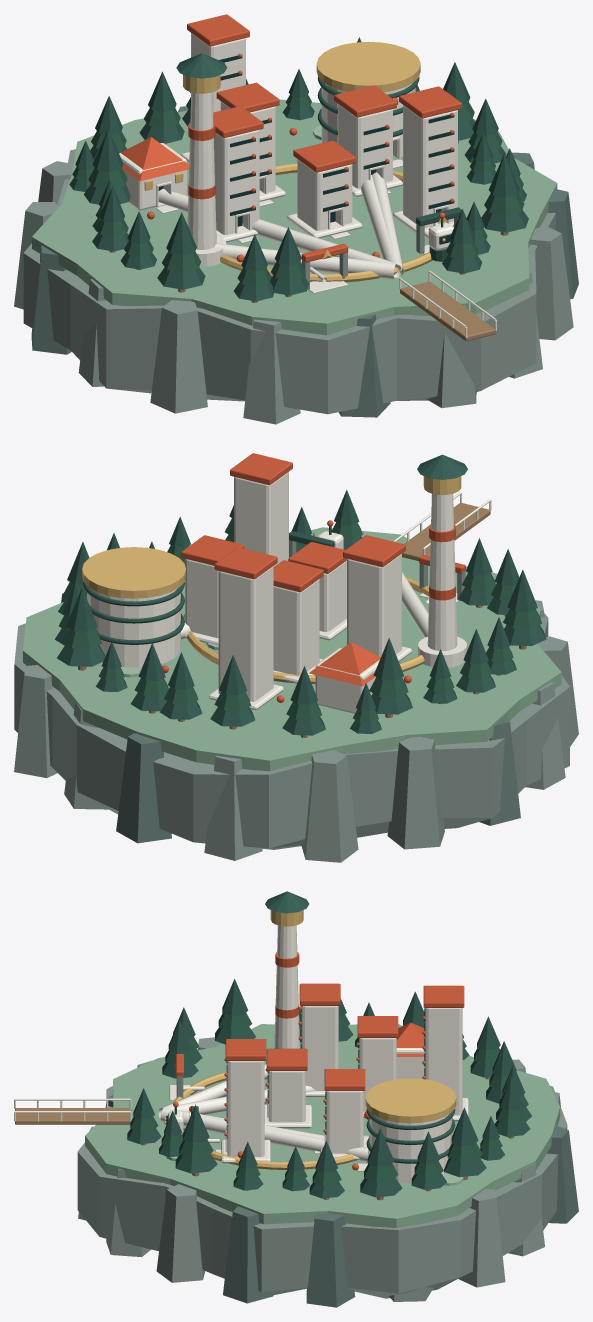
Rendered from chapter-01.glb.
3 views of the same model, one above another, from view 1: azimuth 30°, elevation 25°; view 2: azimuth 150°, elevation 25°; view 3: azimuth 270°, elevation 25° (orthographic). The views are drawn at different scales.
Parts seen in each view (by area): view 1: terrain, rock_base, server_4, cliff_facet_10, vault_cap_0, server_3, beacon, cliff_facet_15, cliff_facet_11, server_1, server_0, landmark_dock (+47 smaller); view 2: terrain, rock_base, server_5, cliff_facet_07, cliff_facet_06, server_3, vault_cap_0, landmark_database_0, server_4, server_2, cliff_facet_04, beacon (+45 smaller); view 3: terrain, rock_base, cliff_facet_15, server_4, vault_cap_0, cliff_facet_00, server_5, cliff_facet_16, cliff_facet_02, server_3, beacon, landmark_database_0 (+27 smaller).
Part boxes in pixels (x1,y1,x2,y2): terrain: [32, 99, 557, 335]; rock_base: [23, 131, 555, 414]; server_4: [403, 105, 457, 227]; cliff_facet_10: [150, 300, 207, 413]; vault_cap_0: [316, 41, 420, 92]; server_3: [214, 129, 259, 234]; beacon: [187, 92, 216, 249]; cliff_facet_15: [530, 226, 573, 340]; cliff_facet_11: [243, 319, 300, 424]; server_1: [338, 104, 392, 188]; server_0: [297, 159, 352, 230]; landmark_dock: [400, 281, 495, 341]; terrain: [23, 527, 561, 771]; rock_base: [14, 613, 569, 849]; server_5: [218, 566, 273, 701]; cliff_facet_07: [387, 736, 444, 849]; cliff_facet_06: [301, 750, 358, 862]; server_3: [347, 553, 401, 656]; vault_cap_0: [82, 547, 185, 598]; landmark_database_0: [87, 588, 180, 667]; server_4: [234, 471, 288, 566]; server_2: [273, 579, 319, 675]; cliff_facet_04: [116, 733, 171, 843]; beacon: [427, 494, 457, 650]; terrain: [85, 1024, 560, 1227]; rock_base: [77, 1085, 567, 1298]; cliff_facet_15: [156, 1184, 205, 1282]; server_4: [227, 1061, 264, 1156]; vault_cap_0: [365, 1078, 456, 1123]; cliff_facet_00: [306, 1213, 355, 1307]; server_5: [425, 1008, 462, 1115]; cliff_facet_16: [223, 1206, 273, 1303]; cliff_facet_02: [458, 1189, 505, 1287]; server_3: [301, 1006, 338, 1090]; beacon: [274, 925, 299, 1048]; landmark_database_0: [369, 1114, 452, 1183].
Bounding box in the file's own units: 11.9 × 7.41 × 13.7.
